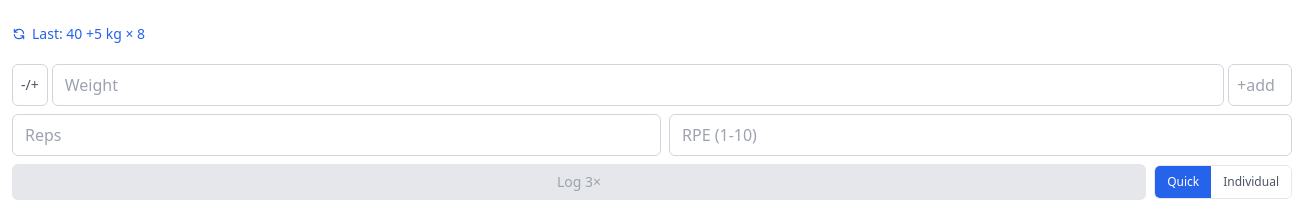
Test: SetLogger › preset from last › fills stacked weight into weight and add fields
Click the button with aria-label "Preset from last session". click: x=49, y=34
box: [12, 12, 1292, 56]
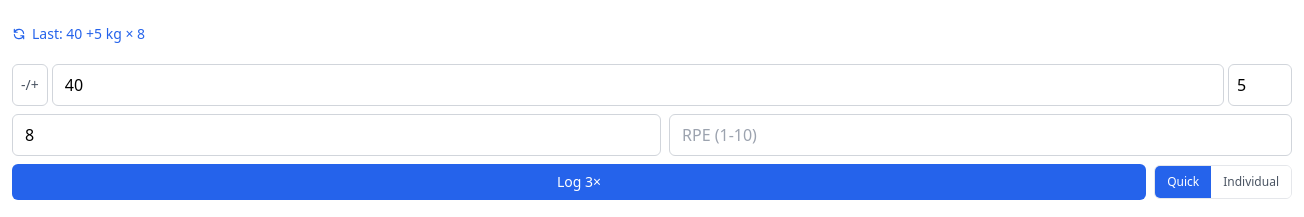
Expected: the 1st field with placeholder "Weight" holds "40", [52, 64, 1224, 106]
Expected: the 2nd field with placeholder "+add" holds "5", [1228, 64, 1292, 106]
